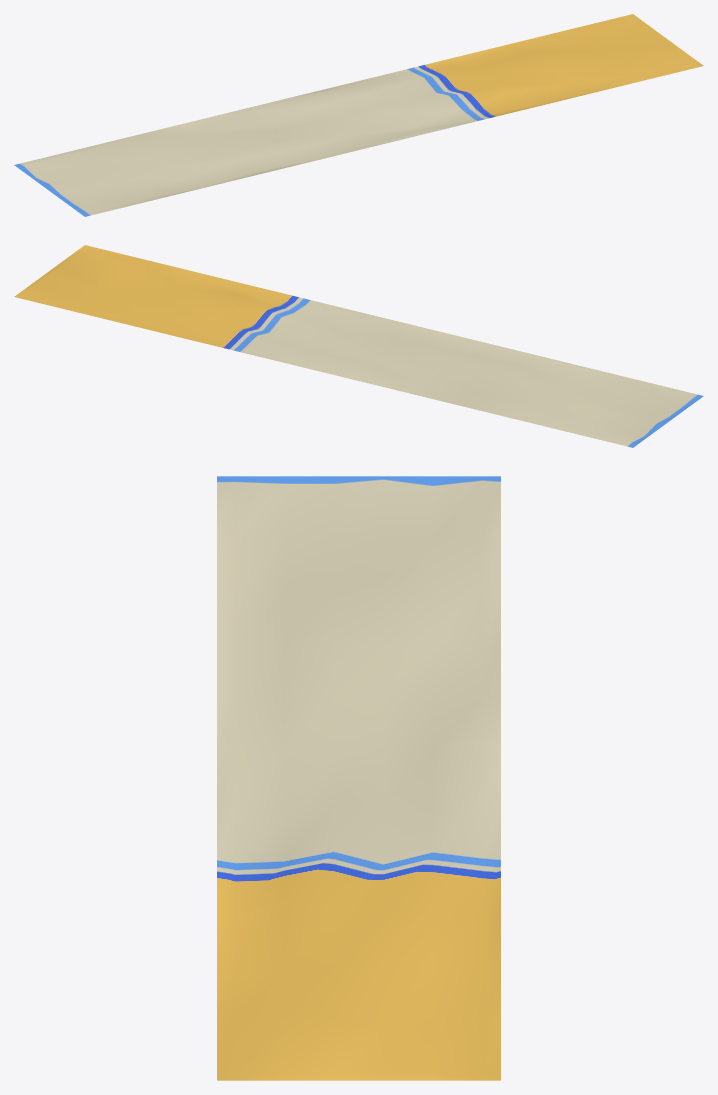
File: GroundLeft.fbx
3 views of the same model, one above another, from view 1: azimuth 30°, elevation 25°; view 2: azimuth 150°, elevation 25°; view 3: azimuth 270°, elevation 25° (orthographic). The views are drawn at different scales.
Visible parts, largest first — view 1: GroundLeft001_LOD0; view 2: GroundLeft001_LOD0; view 3: GroundLeft001_LOD0.
Boxes of the visible parts, x1,y1,x2,y2 form: GroundLeft001_LOD0: (14, 14, 703, 216); GroundLeft001_LOD0: (14, 245, 703, 447); GroundLeft001_LOD0: (217, 476, 500, 1080).
Size of what is drawn, in the model's own units: 92.34 by 1.61 by 18.33.
